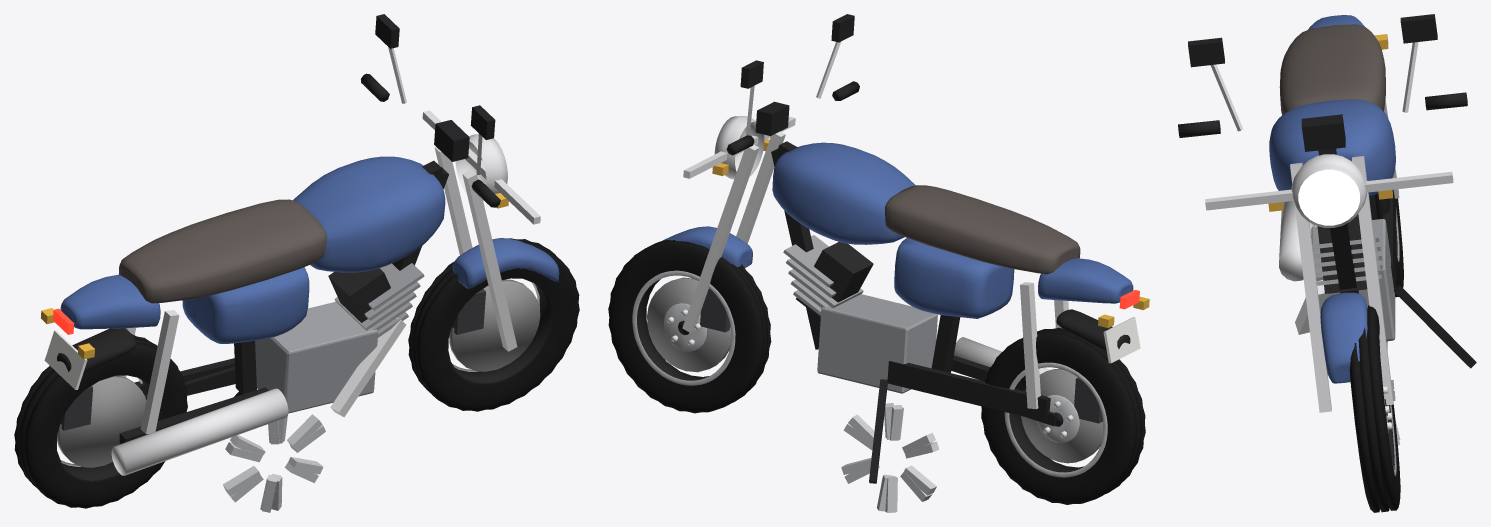
Rendered from bike_motorcycle_2.glb.
3 views of the same model, side by side, from view 1: azimuth 30°, elevation 25°; view 2: azimuth 150°, elevation 25°; view 3: azimuth 270°, elevation 25° (orthographic). The views are drawn at different scales.
Parts seen in each view (by area): view 1: bike_motorcycle_2; view 2: bike_motorcycle_2; view 3: bike_motorcycle_2.
Boxes of the visible parts, <box> form: bike_motorcycle_2: <box>14,14,579,512</box>; bike_motorcycle_2: <box>608,14,1149,512</box>; bike_motorcycle_2: <box>1178,14,1476,512</box>.
Size of the model in its own units: 2.06 by 1.59 by 0.8648.
